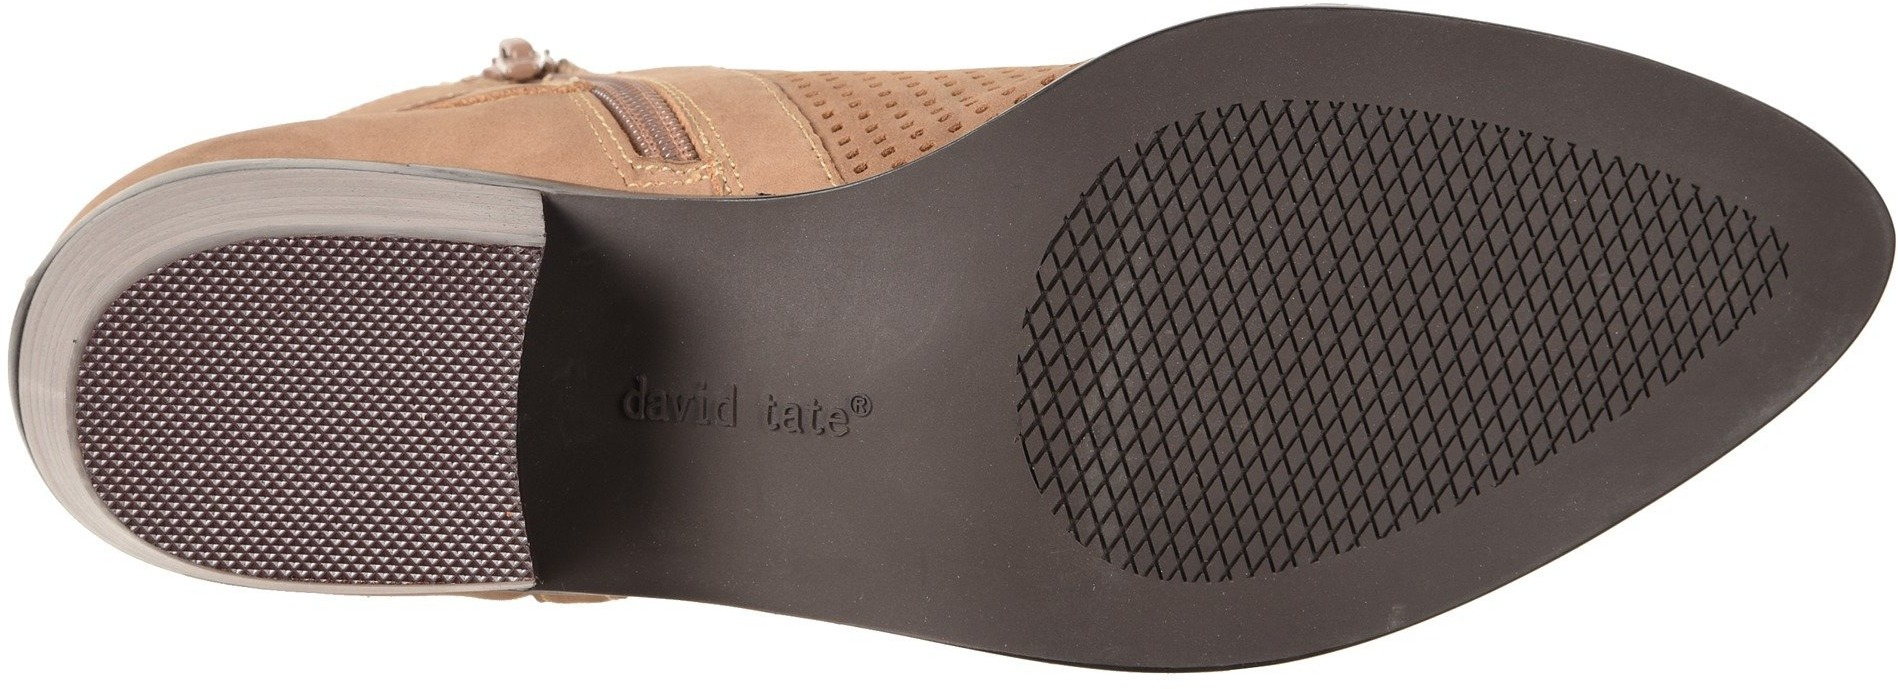other: (274, 257, 504, 530), (94, 320, 268, 505)
quad: (1063, 212, 1315, 481), (1319, 127, 1542, 358), (1547, 177, 1737, 341), (1319, 368, 1469, 513)
